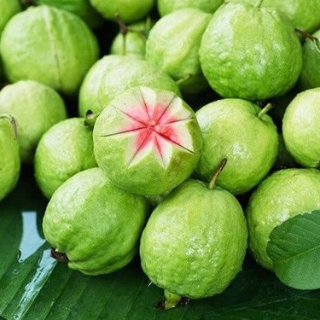oi: (141, 179, 246, 300), (200, 5, 300, 96)
